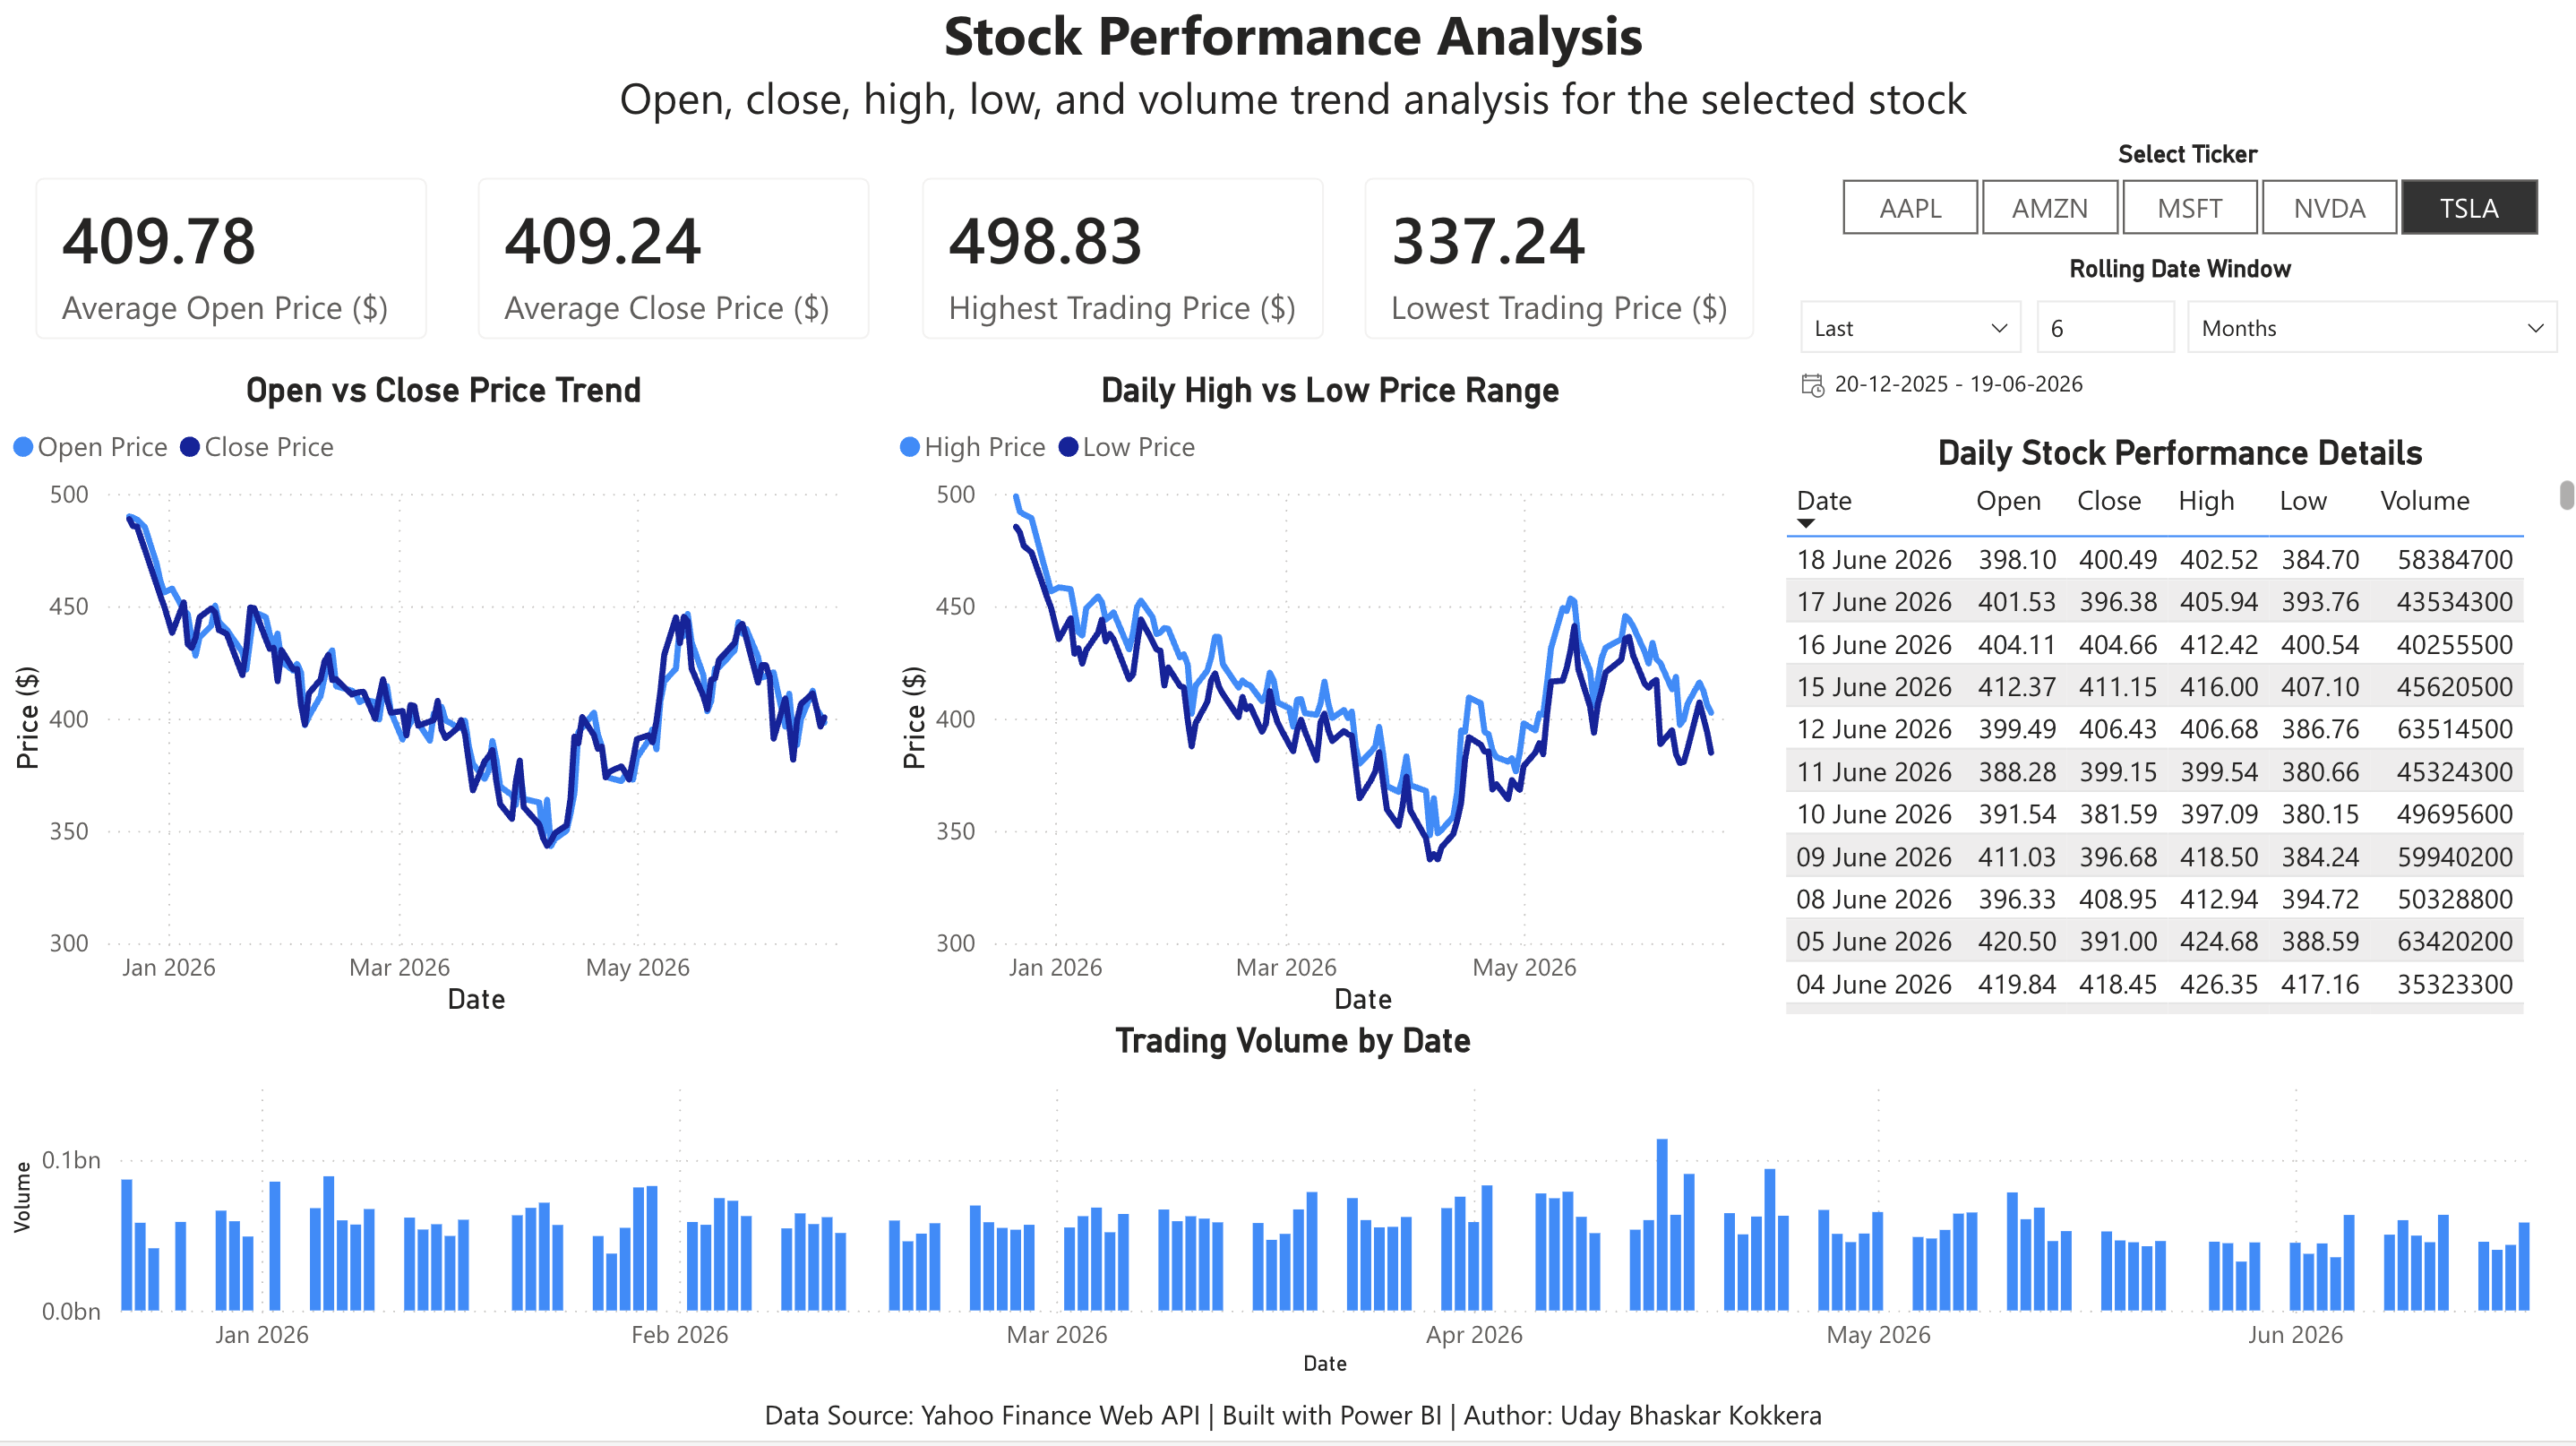

The dashboard page shown, as its layout file describes it:
{"tool":"powerbi","page":{"name":"Stock Performance Analysis","canvas":[1280,720],"ordinal":1},"visuals":[{"type":"textbox","box":[0,0,1279.7,77.6],"z":0},{"type":"cardVisual","fields":{"Data":["Avg(Stock_Prices.open)"]},"box":[0,77.6,228.6,114.8],"z":1000},{"type":"cardVisual","fields":{"Data":["Avg(Stock_Prices.close)"]},"box":[219.3,77.6,228.6,114.8],"z":2000},{"type":"cardVisual","fields":{"Data":["Max(Stock_Prices.high)"]},"box":[438.6,77.6,233.8,114.8],"z":3000},{"type":"cardVisual","fields":{"Data":["Min(Stock_Prices.low)"]},"box":[657.9,77.6,227.6,114.8],"z":4000},{"type":"lineChart","title":"Open vs Close Price Trend","fields":{"Category":["Stock_Prices.timestamp"],"Y":["Avg(Stock_Prices.open)","Avg(Stock_Prices.close)"]},"box":[0,192.4,438.6,321.7],"z":5000},{"type":"lineChart","title":"Daily High vs Low Price Range","fields":{"Category":["Stock_Prices.timestamp"],"Y":["Avg(Stock_Prices.high)","Avg(Stock_Prices.low)"]},"box":[438.6,192.4,438.6,321.7],"z":6000},{"type":"tableEx","title":"Daily Stock Performance Details","fields":{"Values":["Stock_Prices.timestamp","Avg(Stock_Prices.open)","Avg(Stock_Prices.close)","Avg(Stock_Prices.high)","Avg(Stock_Prices.low)","Sum(Stock_Prices.volume)"]},"box":[877.5,223.1,402.2,290.6],"z":7000},{"type":"slicer","title":"Rolling Date Window","fields":{"Values":["Stock_Prices.timestamp"]},"box":[877.5,135,402.2,75.9],"z":8000},{"type":"slicer","title":"Select Ticker","fields":{"Values":["Stock_Prices.Ticker"]},"box":[885.9,77.8,393.8,50.6],"z":9000},{"type":"textbox","box":[0,692.1,1279.7,27.9],"z":10000},{"type":"clusteredColumnChart","title":"Trading Volume by Date","fields":{"Category":["Stock_Prices.timestamp"],"Y":["Sum(Stock_Prices.volume)"]},"box":[0,514.1,1279.7,177.9],"z":11000}]}

Visuals, with their boxes in screenshot pixels (x1, y1, x2, y2), scaled from the page's 1280x720 canvas onto the 2576x1446 screenshot:
textbox: left=0, top=0, right=2575, bottom=156
cardVisual - Avg(Stock_Prices.open): left=0, top=156, right=460, bottom=386
cardVisual - Avg(Stock_Prices.close): left=442, top=156, right=901, bottom=386
cardVisual - Max(Stock_Prices.high): left=882, top=156, right=1353, bottom=386
cardVisual - Min(Stock_Prices.low): left=1324, top=156, right=1782, bottom=386
"Open vs Close Price Trend" lineChart: left=0, top=386, right=882, bottom=1032
"Daily High vs Low Price Range" lineChart: left=882, top=386, right=1765, bottom=1032
"Daily Stock Performance Details" tableEx: left=1766, top=448, right=2575, bottom=1032
"Rolling Date Window" slicer: left=1766, top=271, right=2575, bottom=424
"Select Ticker" slicer: left=1783, top=156, right=2575, bottom=258
textbox: left=0, top=1390, right=2575, bottom=1445
"Trading Volume by Date" clusteredColumnChart: left=0, top=1032, right=2575, bottom=1390
